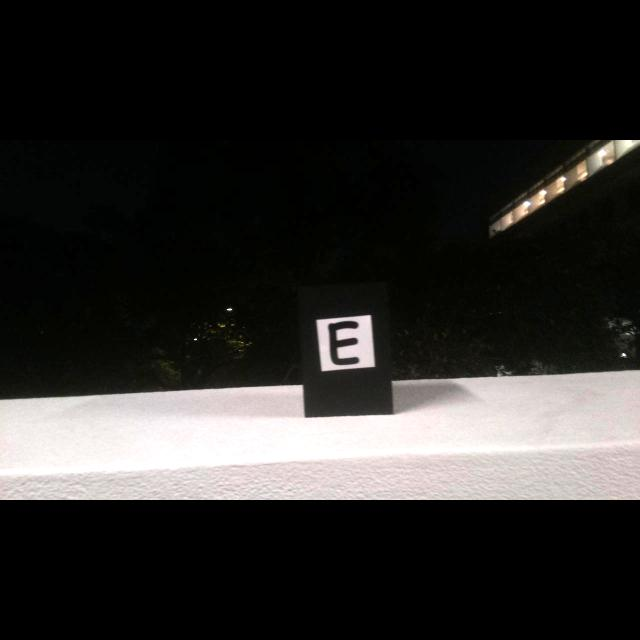E: (328, 321, 360, 365)
